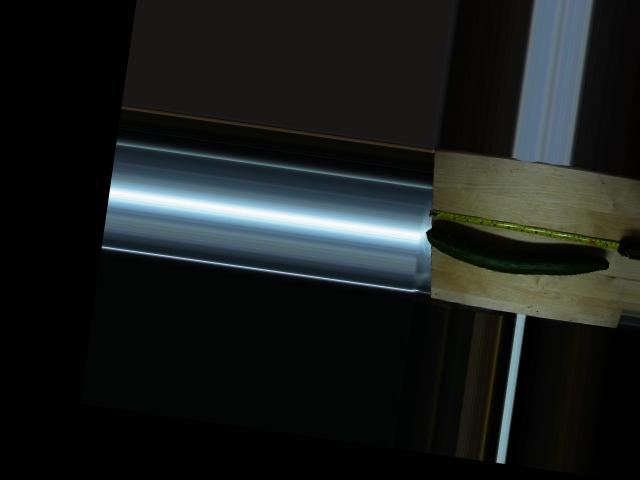cucumber: (422, 225, 611, 286)
